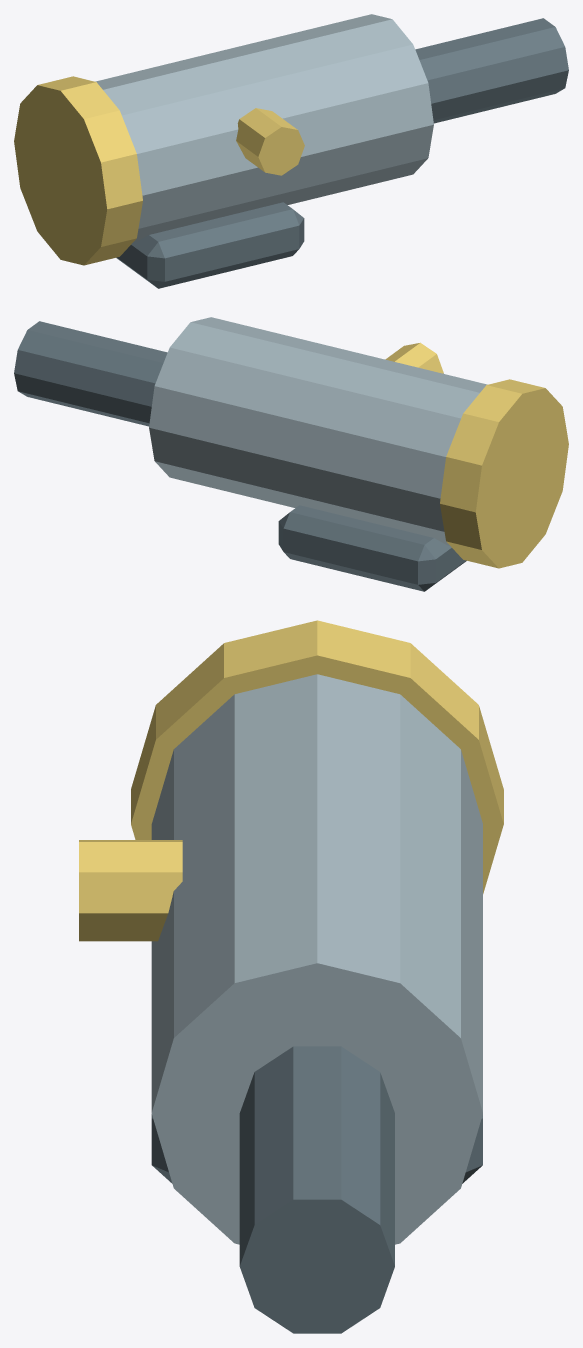
File: FTF_Product_HydraulicComponent.glb
3 renders of one model, top to bottom at view 1: azimuth 30°, elevation 25°; view 2: azimuth 150°, elevation 25°; view 3: azimuth 270°, elevation 25°, orthographic. The views are drawn at different scales.
Parts seen in each view (by area): view 1: HydraulicBody, HydraulicCap, HydraulicRod, HydraulicMount, HydraulicPort; view 2: HydraulicBody, HydraulicCap, HydraulicRod, HydraulicMount, HydraulicPort; view 3: HydraulicBody, HydraulicRod, HydraulicCap, HydraulicPort, HydraulicMount.
Boxes of the visible parts, left/top/right/bottom form: HydraulicBody: left=95, top=14, right=433, bottom=242; HydraulicCap: left=14, top=76, right=142, bottom=265; HydraulicRod: left=415, top=18, right=568, bottom=123; HydraulicMount: left=116, top=202, right=304, bottom=288; HydraulicPort: left=236, top=108, right=304, bottom=175; HydraulicBody: left=149, top=317, right=487, bottom=545; HydraulicCap: left=440, top=379, right=568, bottom=568; HydraulicRod: left=14, top=321, right=167, bottom=426; HydraulicMount: left=278, top=505, right=466, bottom=591; HydraulicPort: left=385, top=342, right=443, bottom=373; HydraulicBody: left=151, top=674, right=482, bottom=1244; HydraulicRod: left=239, top=1046, right=394, bottom=1333; HydraulicCap: left=131, top=620, right=503, bottom=893; HydraulicPort: left=79, top=840, right=182, bottom=941; HydraulicMount: left=151, top=1114, right=482, bottom=1183.
Size of the model in its own units: 1.09 by 0.4 by 0.41.
